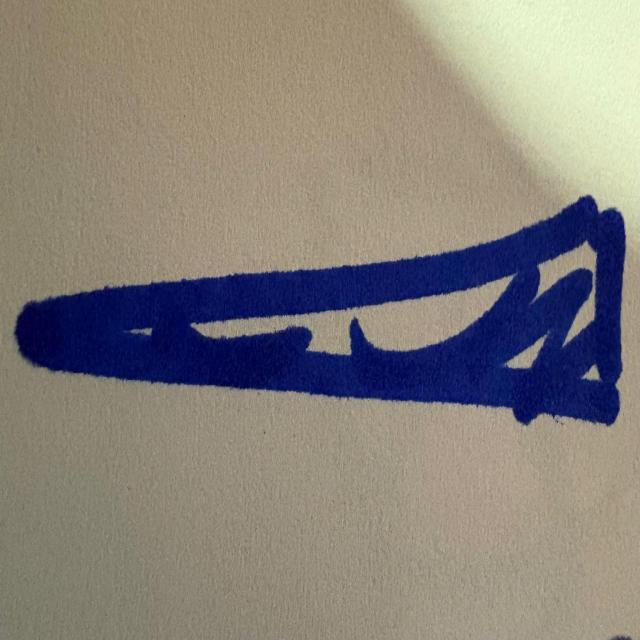Triangle: (16, 194, 626, 428)
